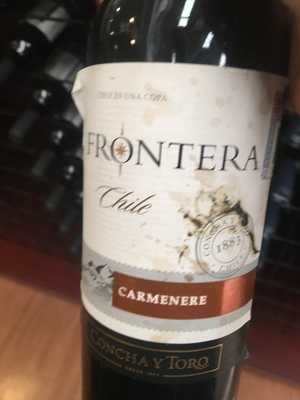frontera carmenere: (72, 6, 282, 400)
